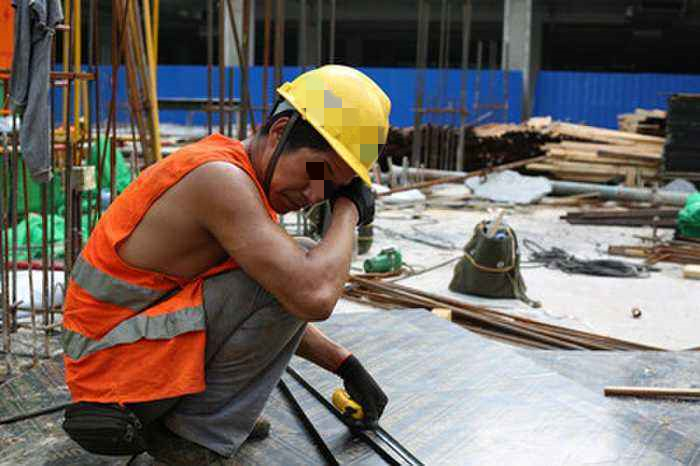helmet: (277, 62, 392, 187)
person: (59, 62, 396, 466)
vest: (61, 131, 274, 404)
